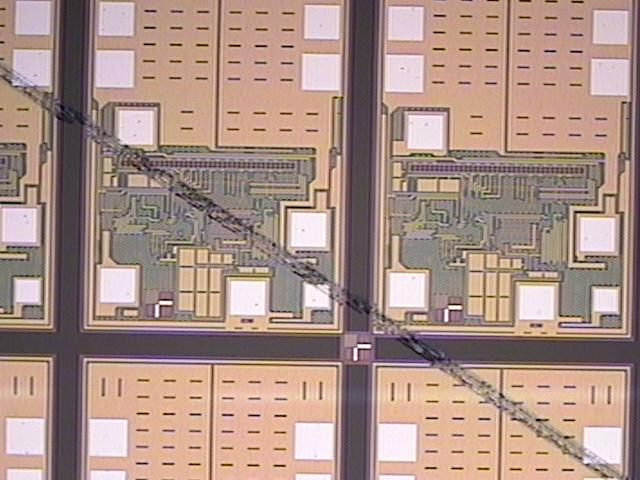SCRATCH: (1, 58, 639, 480)
